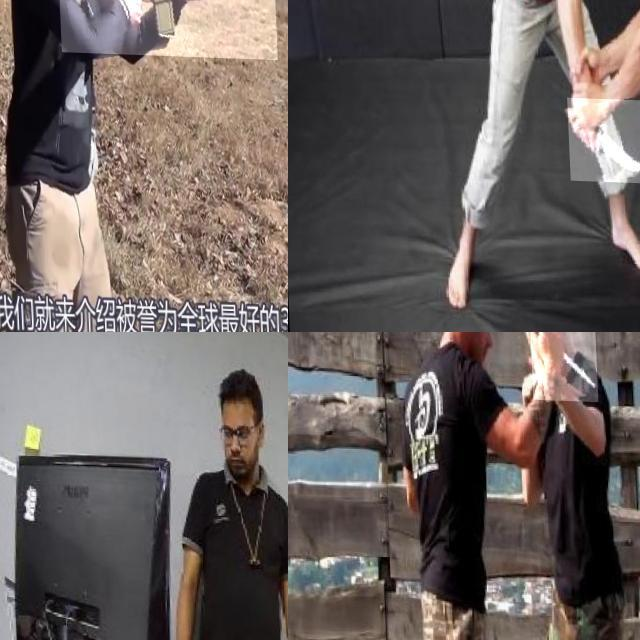-: (564, 95, 640, 180), (527, 332, 595, 398)
gun-knife-thesis - v11 Yolov5 augmented: (54, 0, 275, 72)
